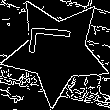L_E: (30, 33, 83, 69)
